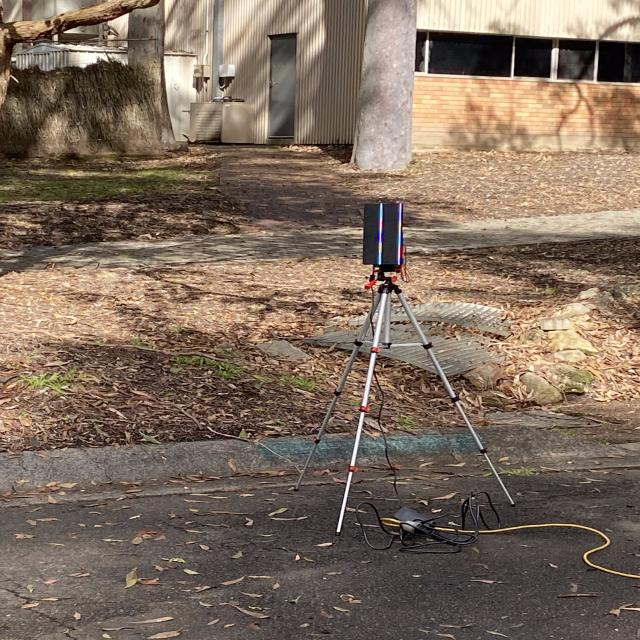matrix: (360, 198, 407, 272)
